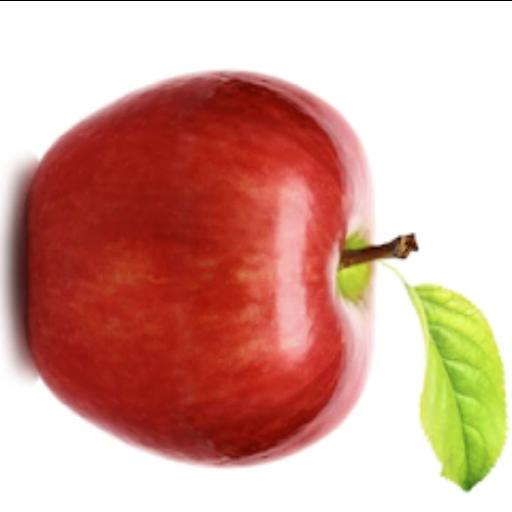apple: (24, 68, 374, 470)
